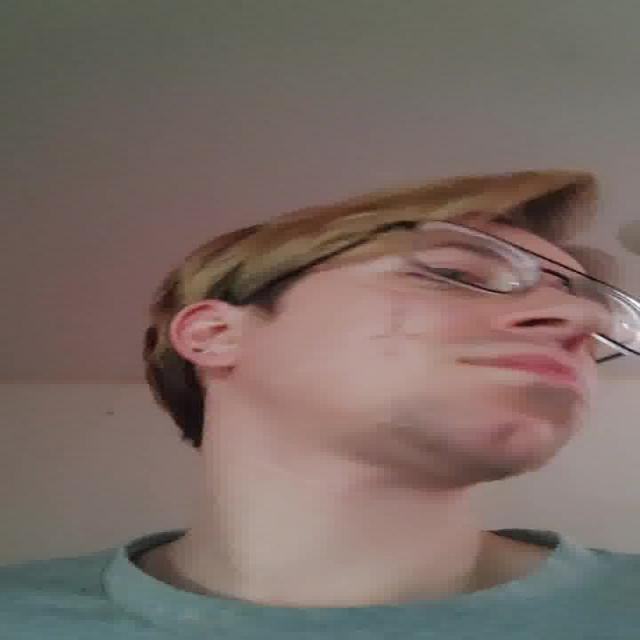earlobe: (167, 300, 240, 369)
